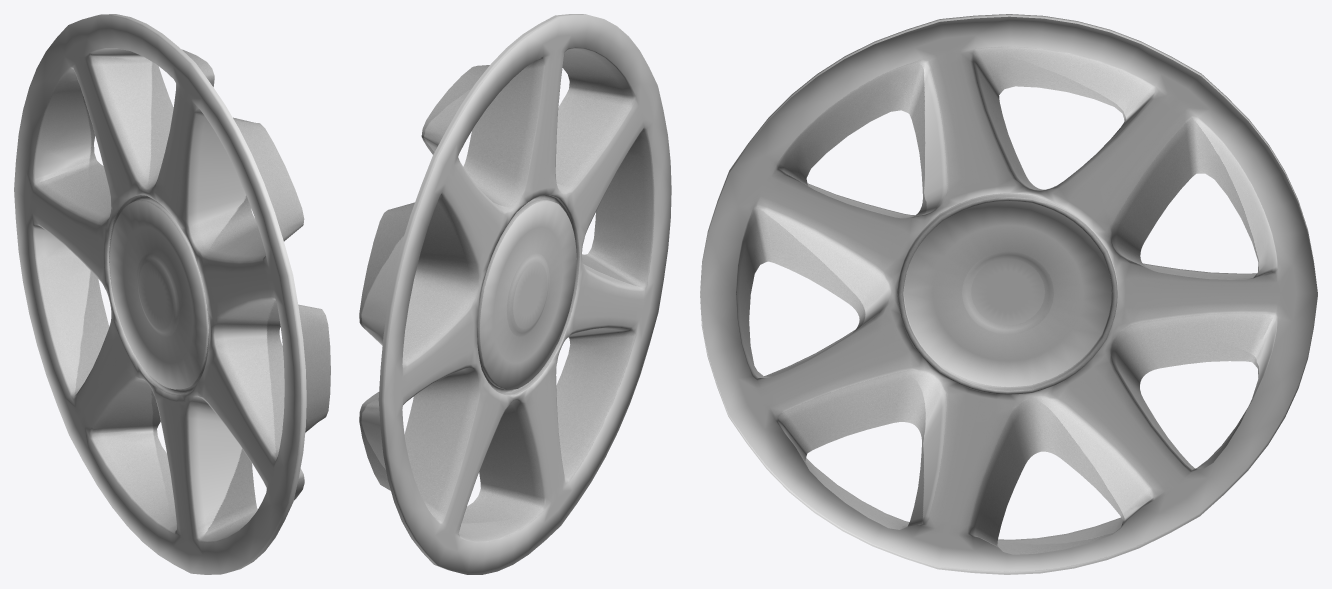
File: rim.obj
3 views of the same model, side by side, from view 1: azimuth 30°, elevation 25°; view 2: azimuth 150°, elevation 25°; view 3: azimuth 270°, elevation 25° (orthographic). The views are drawn at different scales.
Parts seen in each view (by area): view 1: rim_Mesh; view 2: rim_Mesh; view 3: rim_Mesh.
Boxes of the visible parts, x1,y1,x2,y2 form: rim_Mesh: (14, 14, 330, 574); rim_Mesh: (359, 14, 671, 574); rim_Mesh: (700, 14, 1317, 574).
Bounding box in the file's own units: 29.91 × 273 × 274.
Materials: 1 (1 with a texture image).
